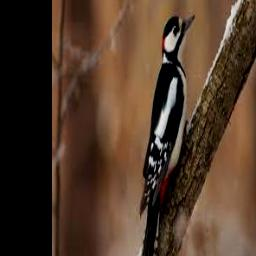Woodpecker: (140, 13, 195, 256)
